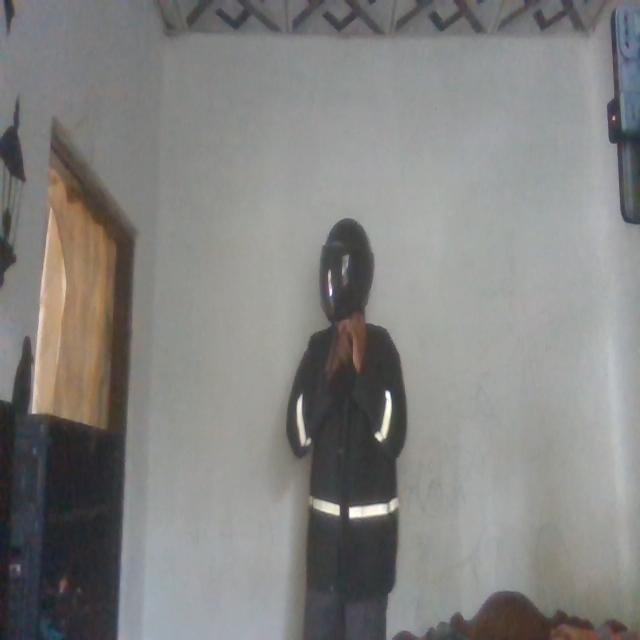Helmet_Wearer: (314, 201, 382, 363)
Jacket_Wearer: (278, 312, 414, 581)
Person: (292, 202, 403, 640)
